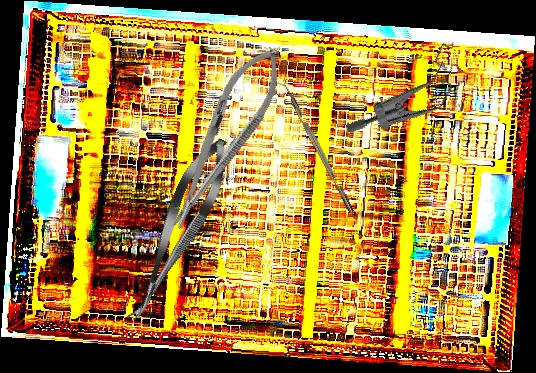Chopper: (274, 78, 355, 217)
Micro Scissor: (116, 130, 241, 330)
Needle Holder: (152, 36, 297, 239)
Speculum: (344, 16, 474, 167)
